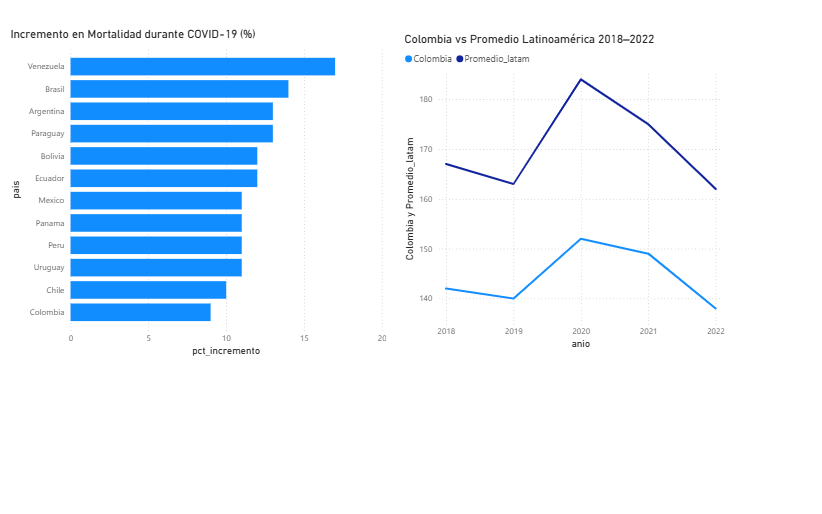

Layout of this report page (visuals, bound fields, positions):
{"tool":"powerbi","page":{"name":"Impacto COVID-19","canvas":[1280,720],"ordinal":1},"visuals":[{"type":"clusteredBarChart","title":"Incremento en Mortalidad durante COVID-19 (%)","fields":{"Category":["impacto_covid.pais"],"Y":["Sum(impacto_covid.pct_incremento)"]},"box":[10.2,46.8,560.5,485.9],"z":0},{"type":"lineChart","title":"Colombia vs Promedio Latinoamérica 2018–2022","fields":{"Category":["colombia_vs_latam.anio"],"Y":["Avg(colombia_vs_latam.colombia)","Avg(colombia_vs_latam.promedio_latam)"]},"box":[586.8,54.1,478.5,469.8],"z":1000}]}

Visuals, with their boxes on the page's 1280x720 design canvas (x1, y1, x2, y2). These are canvas units, not pixel positions in the 822x514 screenshot, which may show the page scaled, cropped or inside an application window:
"Incremento en Mortalidad durante COVID-19 (%)" clusteredBarChart: detection(10, 47, 571, 533)
"Colombia vs Promedio Latinoamérica 2018–2022" lineChart: detection(587, 54, 1065, 524)
